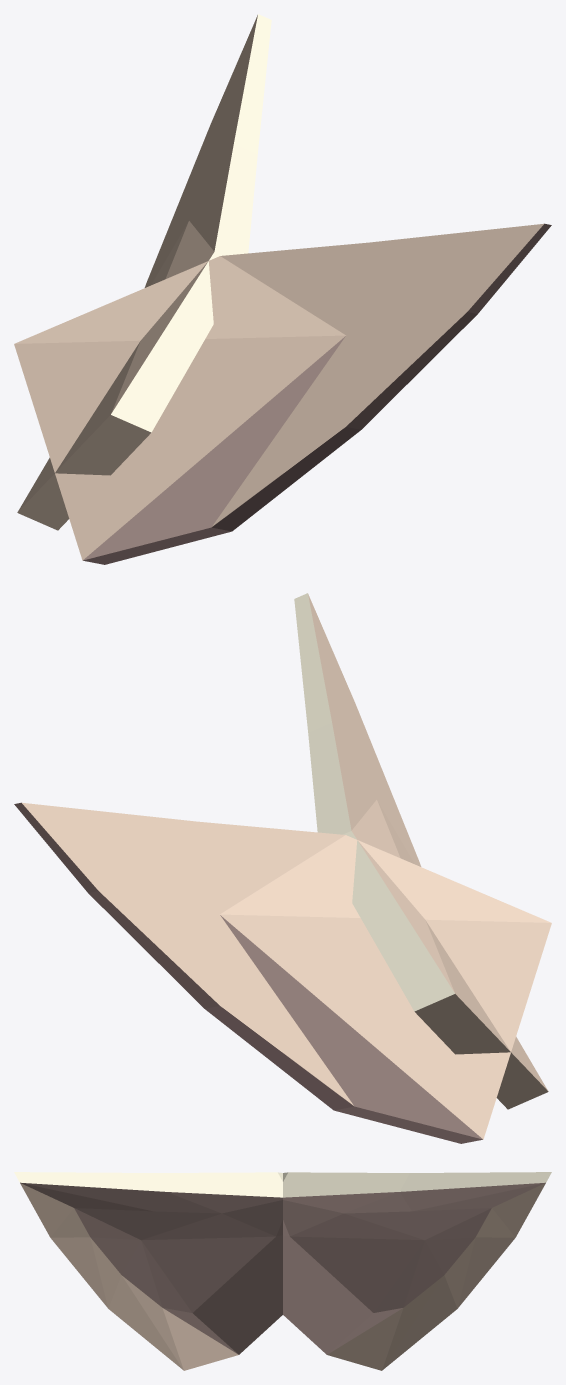
Rendered from px_long.glb.
3 renders of one model, top to bottom at view 1: azimuth 30°, elevation 25°; view 2: azimuth 150°, elevation 25°; view 3: azimuth 270°, elevation 25°, orthographic. The views are drawn at different scales.
Parts seen in each view (by area): view 1: Ear_R, Ear_L; view 2: Ear_L, Ear_R; view 3: Ear_L, Ear_R.
Part boxes in pixels (x1=…): Ear_R: x1=14, y1=223, x2=551, y2=564; Ear_L: x1=17, y1=14, x2=271, y2=530; Ear_L: x1=14, y1=802, x2=551, y2=1143; Ear_R: x1=294, y1=593, x2=548, y2=1109; Ear_L: x1=283, y1=1172, x2=551, y2=1370; Ear_R: x1=14, y1=1172, x2=282, y2=1370.
Bounding box in the file's own units: 0.0821 × 0.076 × 0.1125.
1 material, 1 textured.
